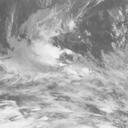cyclone: (21, 40, 104, 107)
